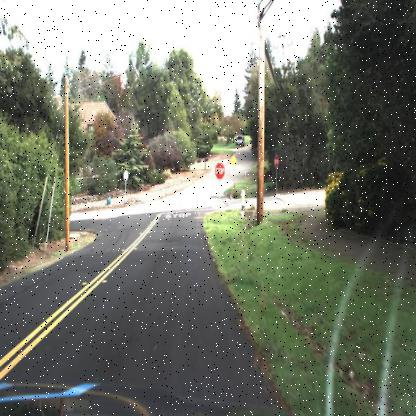car: (234, 132, 245, 149)
